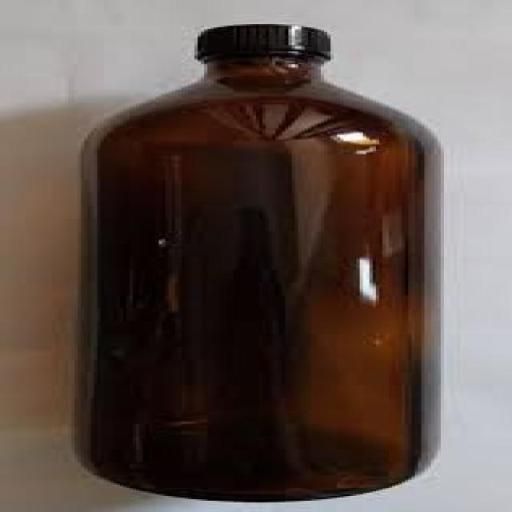glass: (3, 18, 512, 508)
